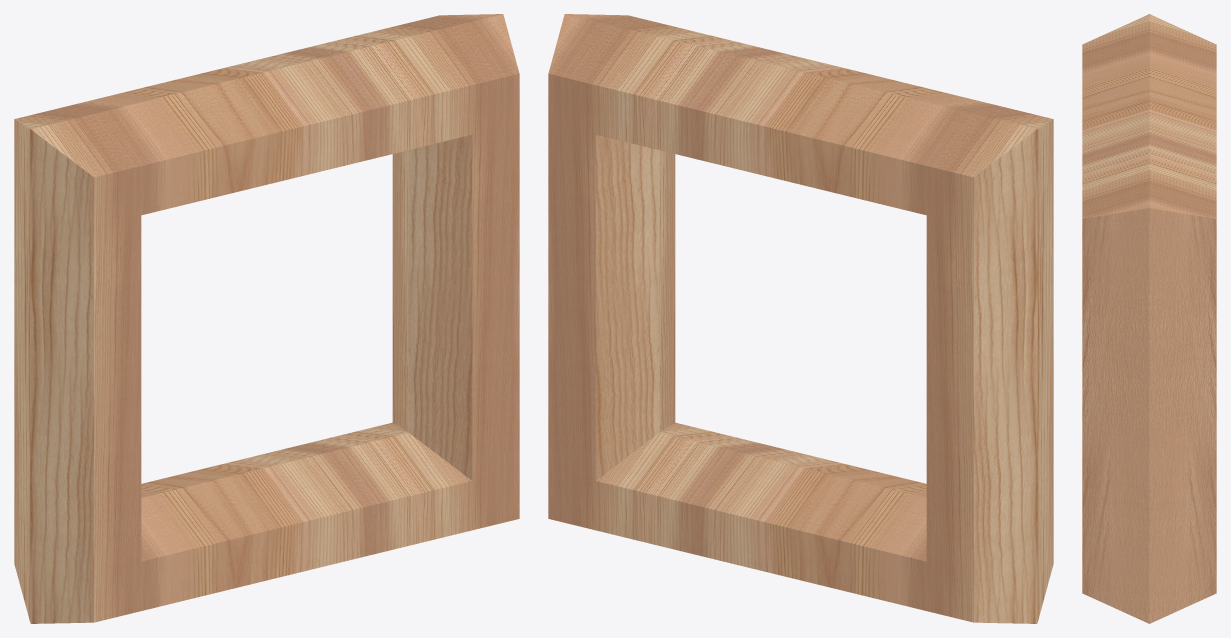
3 renders of one model, left to right at view 1: azimuth 30°, elevation 25°; view 2: azimuth 150°, elevation 25°; view 3: azimuth 270°, elevation 25°, orthographic. The views are drawn at different scales.
Visible parts, largest first — view 1: Torus; view 2: Torus; view 3: Torus.
Boxes of the visible parts, x1,y1,x2,y2 form: Torus: (14,14,519,623); Torus: (548,14,1053,623); Torus: (1082,14,1216,623).
Bounding box in the file's own units: 7.15 × 7.15 × 2.09.
1 material, 1 textured.
